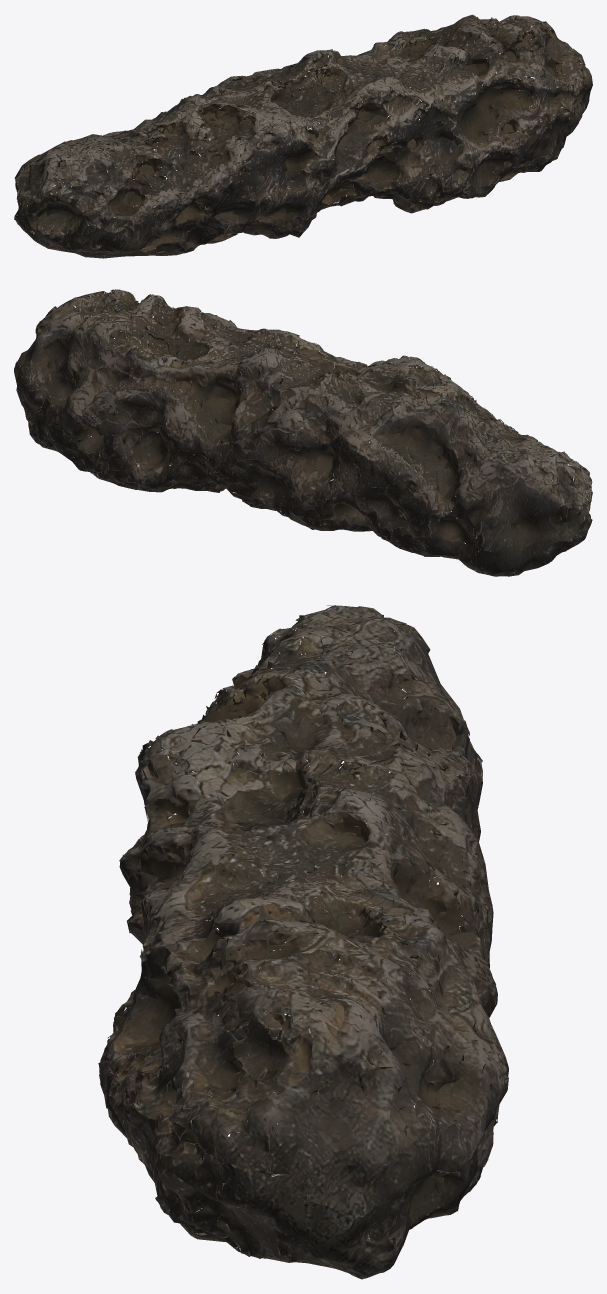
File: asteroid_uncommon_1.glb
3 renders of one model, top to bottom at view 1: azimuth 30°, elevation 25°; view 2: azimuth 150°, elevation 25°; view 3: azimuth 270°, elevation 25°, orthographic. The views are drawn at different scales.
Visible parts, largest first — view 1: model; view 2: model; view 3: model.
Boxes of the visible parts, left/top/right/bottom form: model: left=14, top=14, right=592, bottom=258; model: left=14, top=289, right=592, bottom=576; model: left=98, top=605, right=508, bottom=1279.
Size of the model in its own units: 1.89 by 0.5198 by 0.6197.
Materials: 1 (1 with a texture image).
